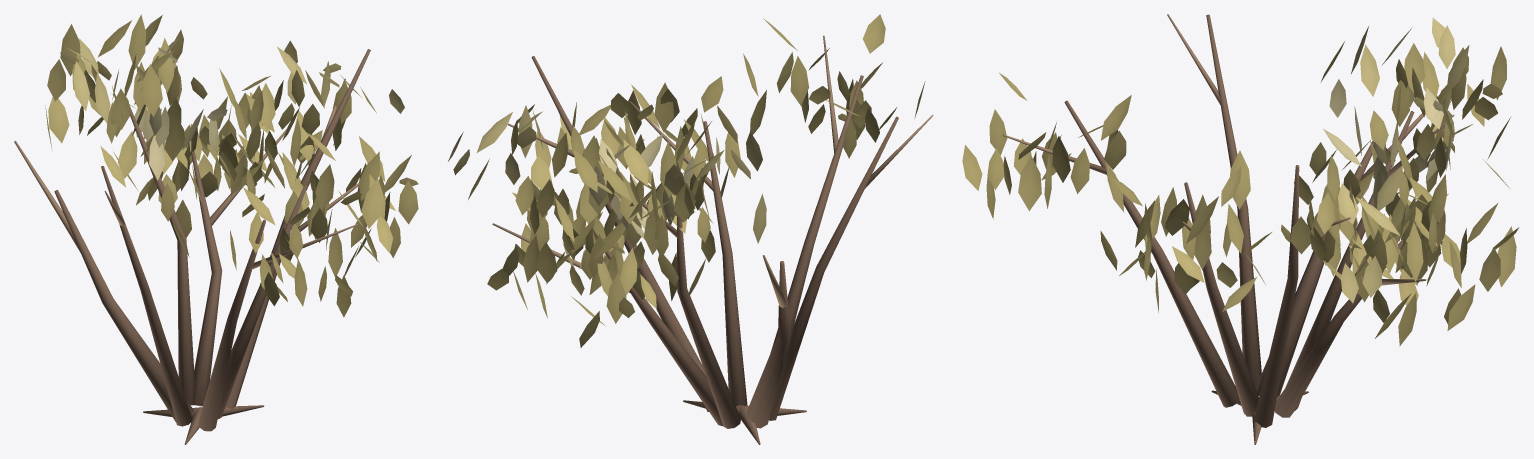
The model's file is bush_3d_06_yellow.glb.
The picture shows the model from 3 angles, left to right: view 1: azimuth 30°, elevation 25°; view 2: azimuth 150°, elevation 25°; view 3: azimuth 270°, elevation 25°; orthographic projection. The views are drawn at different scales.
Parts seen in each view (by area): view 1: bush_3d_06_yellow_foliage, bush_3d_06_yellow_wood; view 2: bush_3d_06_yellow_foliage, bush_3d_06_yellow_wood; view 3: bush_3d_06_yellow_foliage, bush_3d_06_yellow_wood.
Boxes of the visible parts, <box> form: bush_3d_06_yellow_foliage: <box>45,14,418,317</box>; bush_3d_06_yellow_wood: <box>14,49,370,444</box>; bush_3d_06_yellow_foliage: <box>448,14,925,347</box>; bush_3d_06_yellow_wood: <box>492,35,933,444</box>; bush_3d_06_yellow_foliage: <box>962,18,1519,346</box>; bush_3d_06_yellow_wood: <box>1003,14,1454,444</box>.
Bounding box in the file's own units: 2.18 × 1.82 × 2.51.
